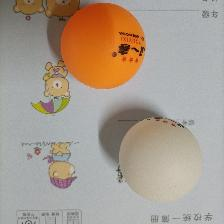WhiteBall: (118, 116, 202, 202)
YellowBall: (59, 2, 146, 89)
